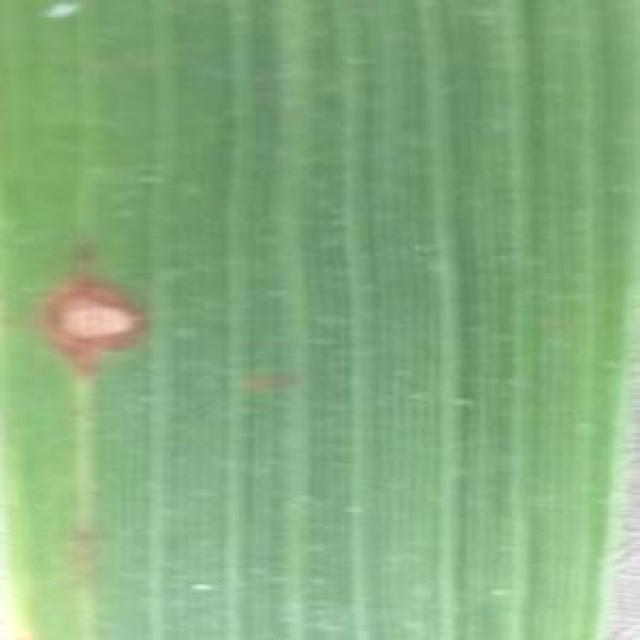Leaf_Blast: (19, 224, 209, 425)
